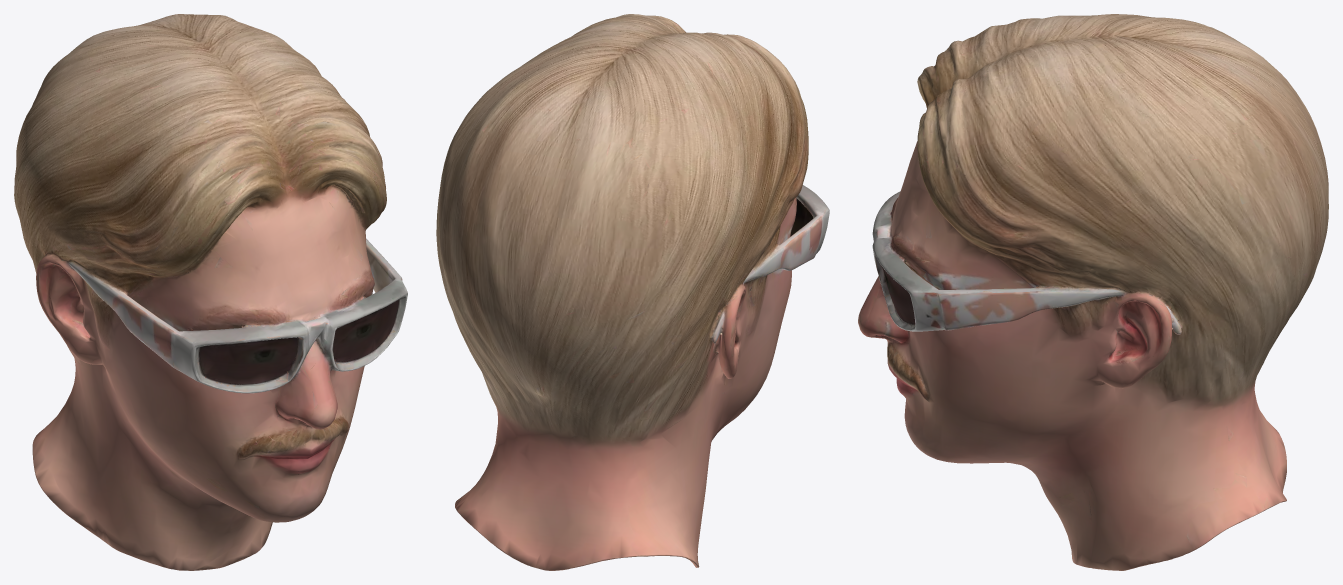
File: manuel-head.glb
The picture shows the model from 3 angles, left to right: view 1: azimuth 30°, elevation 25°; view 2: azimuth 150°, elevation 25°; view 3: azimuth 270°, elevation 25°; orthographic projection.
Visible parts, largest first — view 1: Mesh_0; view 2: Mesh_0; view 3: Mesh_0.
Part boxes in pixels (bbox=[...]): Mesh_0: bbox=[14, 14, 407, 570]; Mesh_0: bbox=[436, 14, 829, 570]; Mesh_0: bbox=[858, 14, 1328, 570].
Bounding box in the file's own units: 1.1 × 1.91 × 1.57.
Materials: 1 (1 with a texture image).
